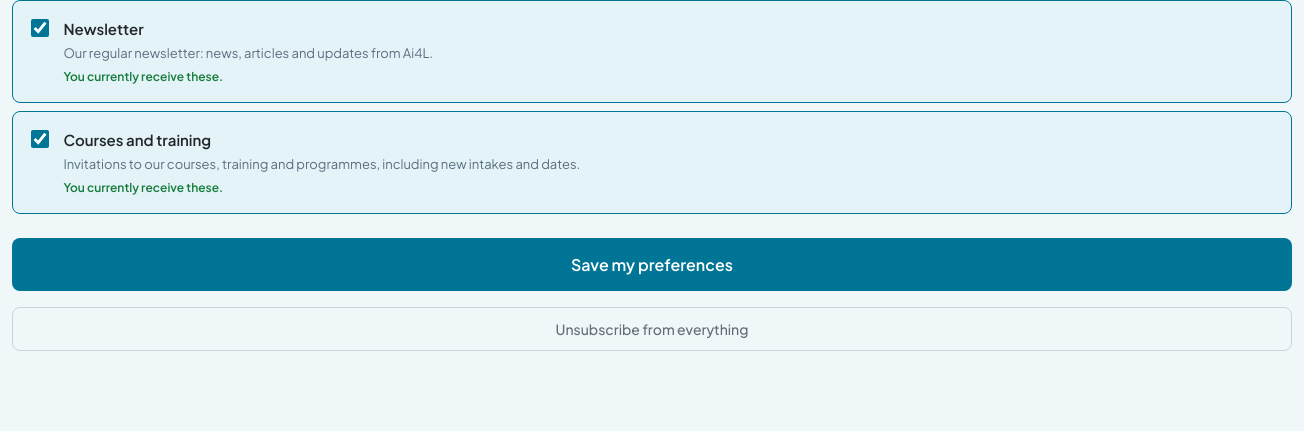
Test: PreferencesForm › shows what the server applied rather than what was asked for
Click the button with test id "unsubscribe-all". click: (652, 329)
box: [12,307,1292,351]
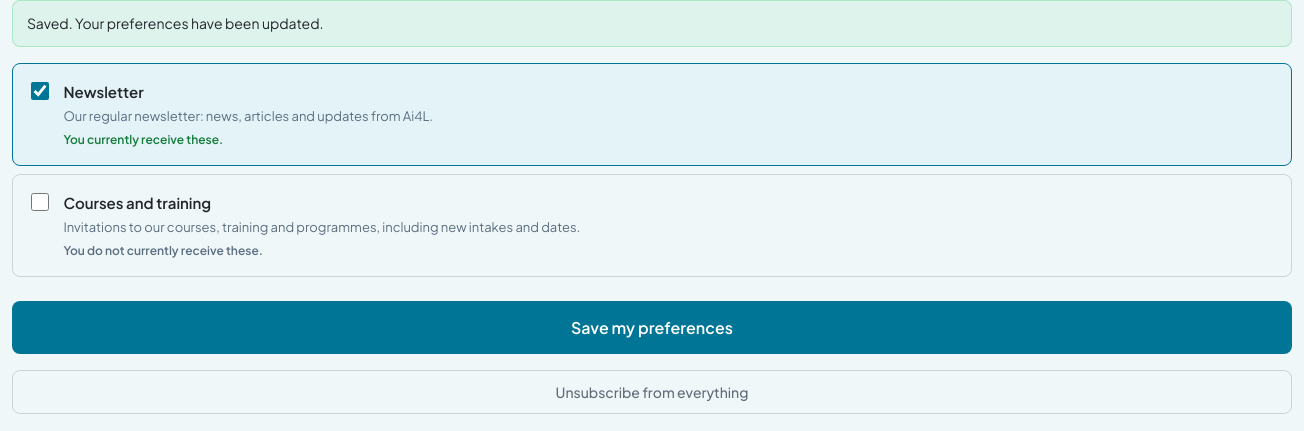
Expected: the checkbox with test id "consent-newsletter" is checked, [31,82,49,100]
Expected: the checkbox with test id "consent-programs" is not checked, [31,193,49,211]
